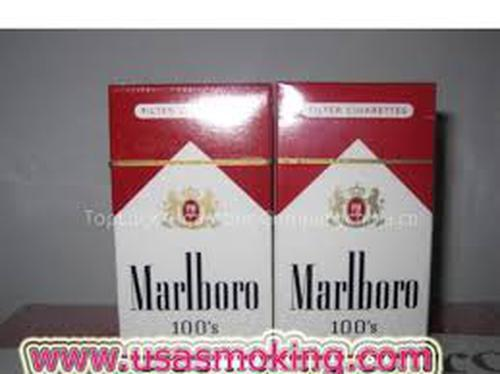marlboro: (111, 89, 269, 343), (278, 83, 430, 347)
